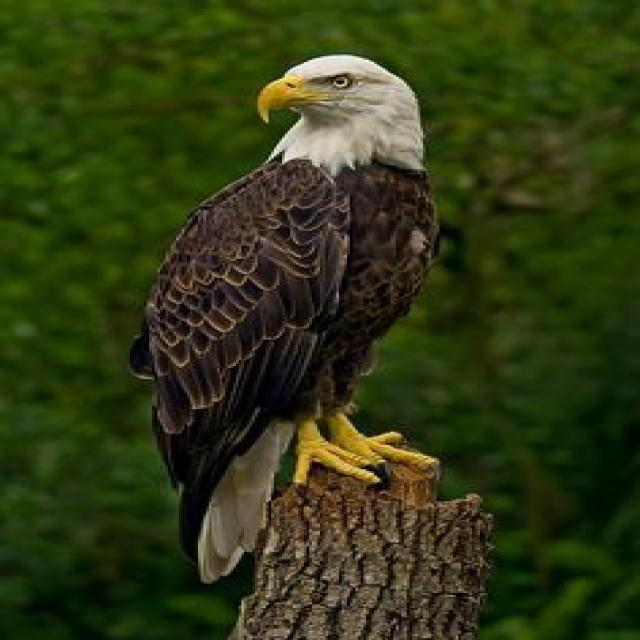Carnivorous: (127, 54, 442, 586)
